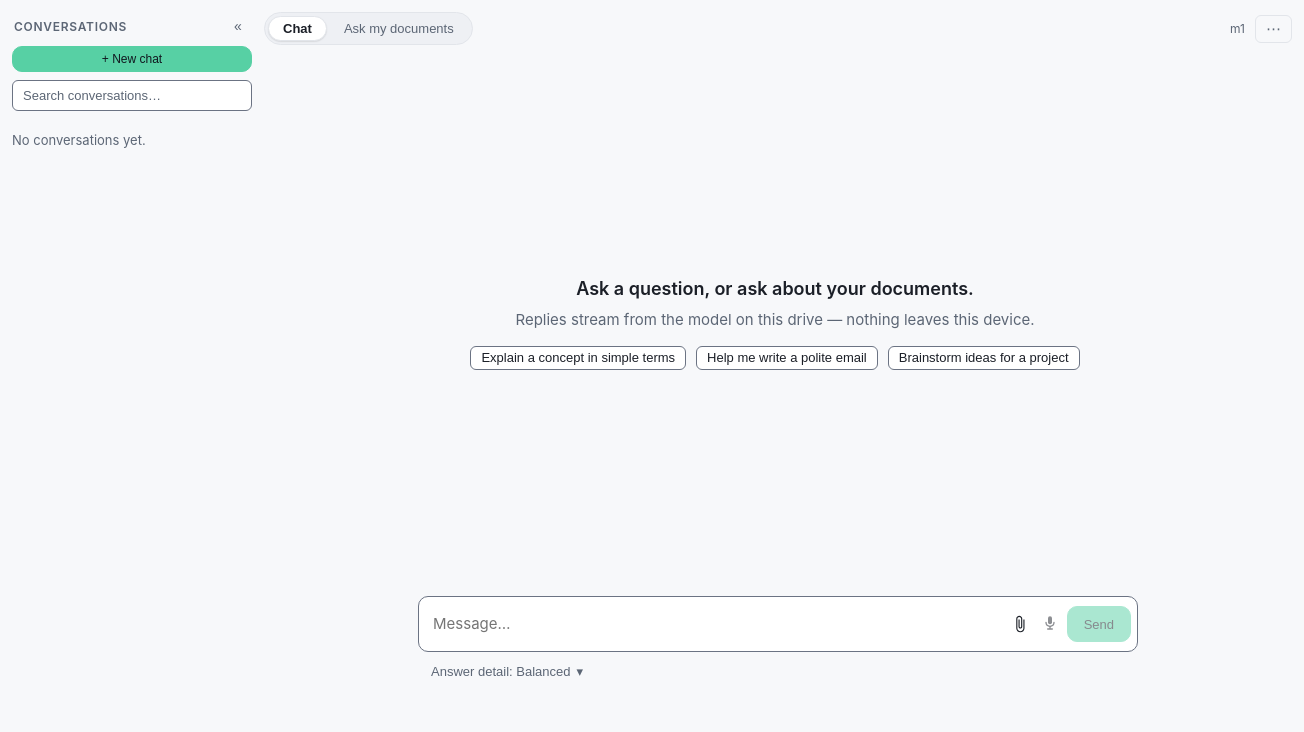
Test: ChatScreen — teaching empty state (guidelines §3) › shows example prompt chips that fill the composer
Expected: the heading "Ask a question, or ask about your documents." is shown, [576,276,974,302]
Click the button "Explain a concept in simple terms" at (578, 358), box [470,346,686,370]
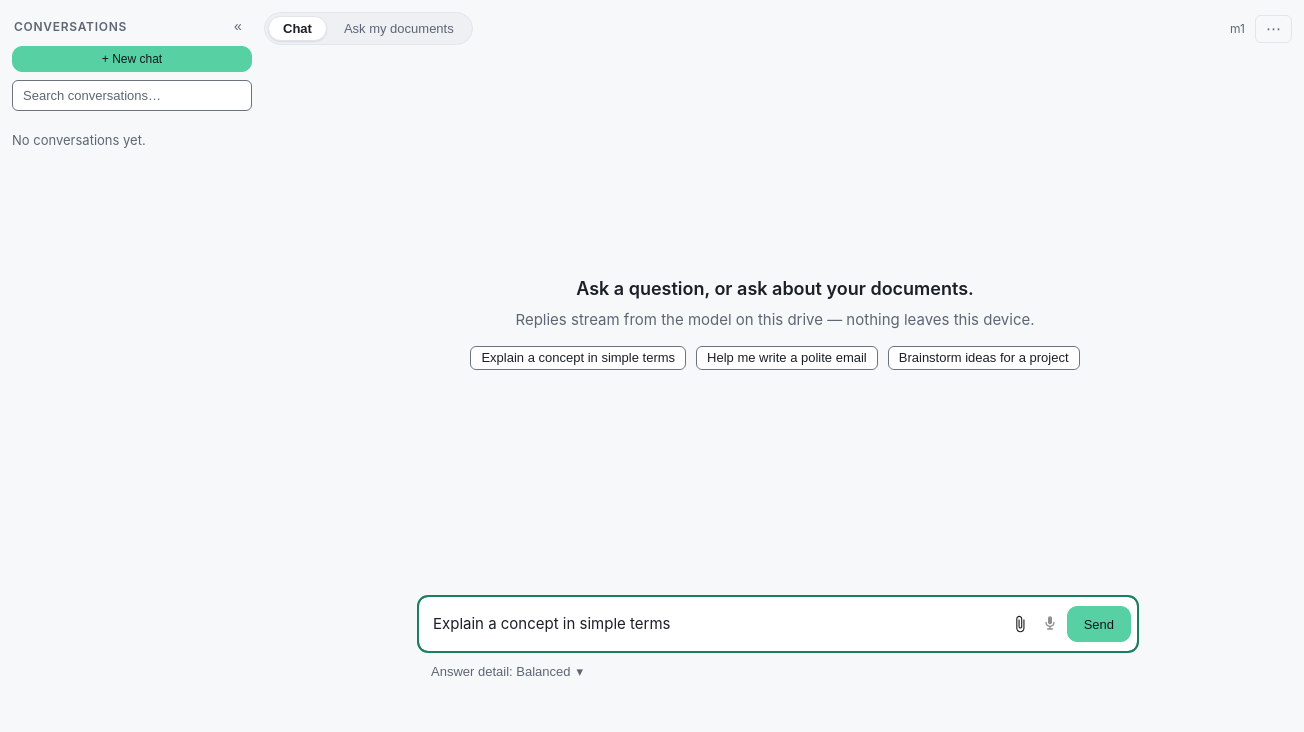
Expected: the text box with placeholder "Message…" holds "Explain a concept in simple terms", [423,603,1003,645]
